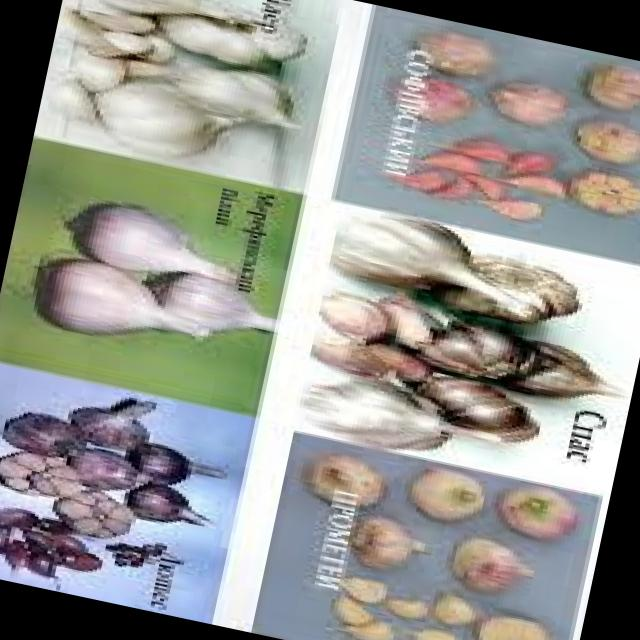Garlic: (286, 212, 636, 487), (35, 0, 324, 173), (0, 373, 252, 564), (380, 117, 591, 243), (18, 234, 228, 359), (59, 188, 236, 294), (294, 560, 495, 640), (153, 253, 290, 352), (0, 501, 108, 599), (391, 11, 512, 88), (371, 61, 487, 140), (390, 453, 500, 532), (480, 472, 585, 554), (438, 526, 546, 604), (468, 62, 574, 136), (342, 506, 440, 582), (298, 442, 394, 509), (554, 106, 640, 173), (567, 51, 640, 124), (453, 598, 570, 640), (572, 169, 640, 217)
